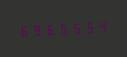five: (69, 19, 81, 36), (56, 20, 68, 36), (82, 19, 94, 35)
four: (95, 18, 107, 34)
nine: (30, 21, 42, 38)
six: (17, 22, 29, 38), (43, 21, 55, 37)
